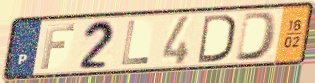2: (74, 17, 119, 74)
4: (160, 14, 192, 67)
D: (233, 10, 280, 63), (196, 12, 237, 64)
F: (38, 22, 78, 71)
L: (119, 19, 150, 67)
